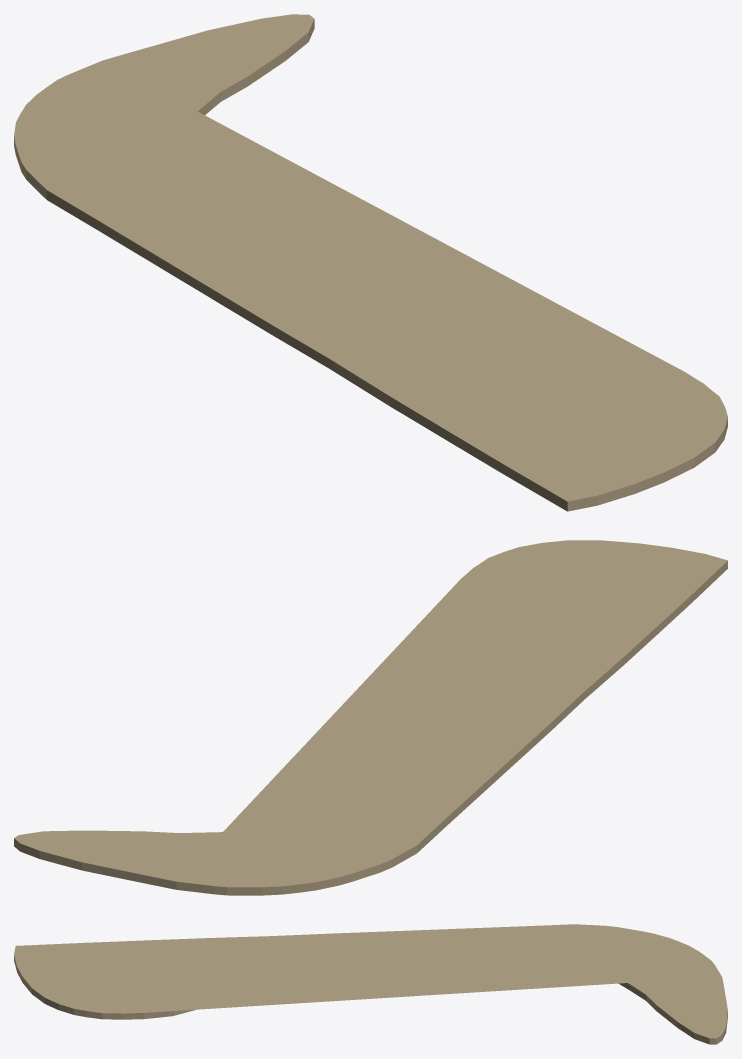
3 views of the same model, one above another, from view 1: azimuth 30°, elevation 25°; view 2: azimuth 150°, elevation 25°; view 3: azimuth 270°, elevation 25° (orthographic). The views are drawn at different scales.
Parts seen in each view (by area): view 1: Cube.017; view 2: Cube.017; view 3: Cube.017.
Part boxes in pixels (box(x1,y1,x2,y2)): Cube.017: box(14, 14, 727, 511); Cube.017: box(14, 540, 727, 895); Cube.017: box(14, 924, 727, 1044).
Bounding box in the file's own units: 591 × 15 × 1559.
